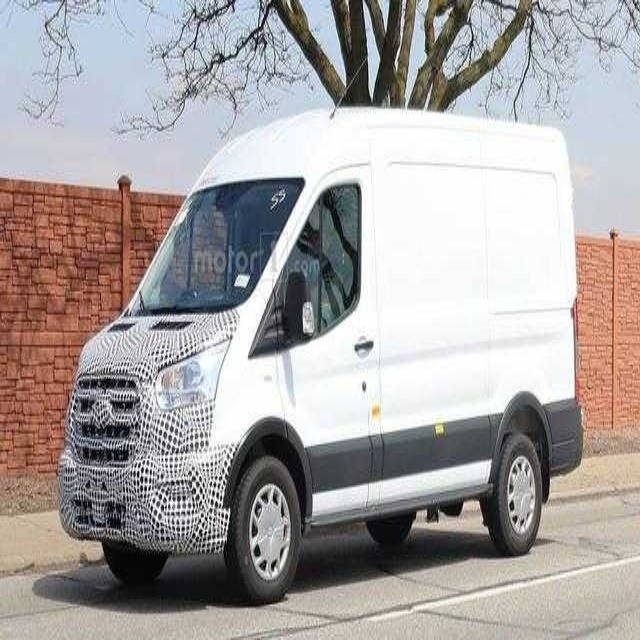Van: (56, 105, 584, 606)
